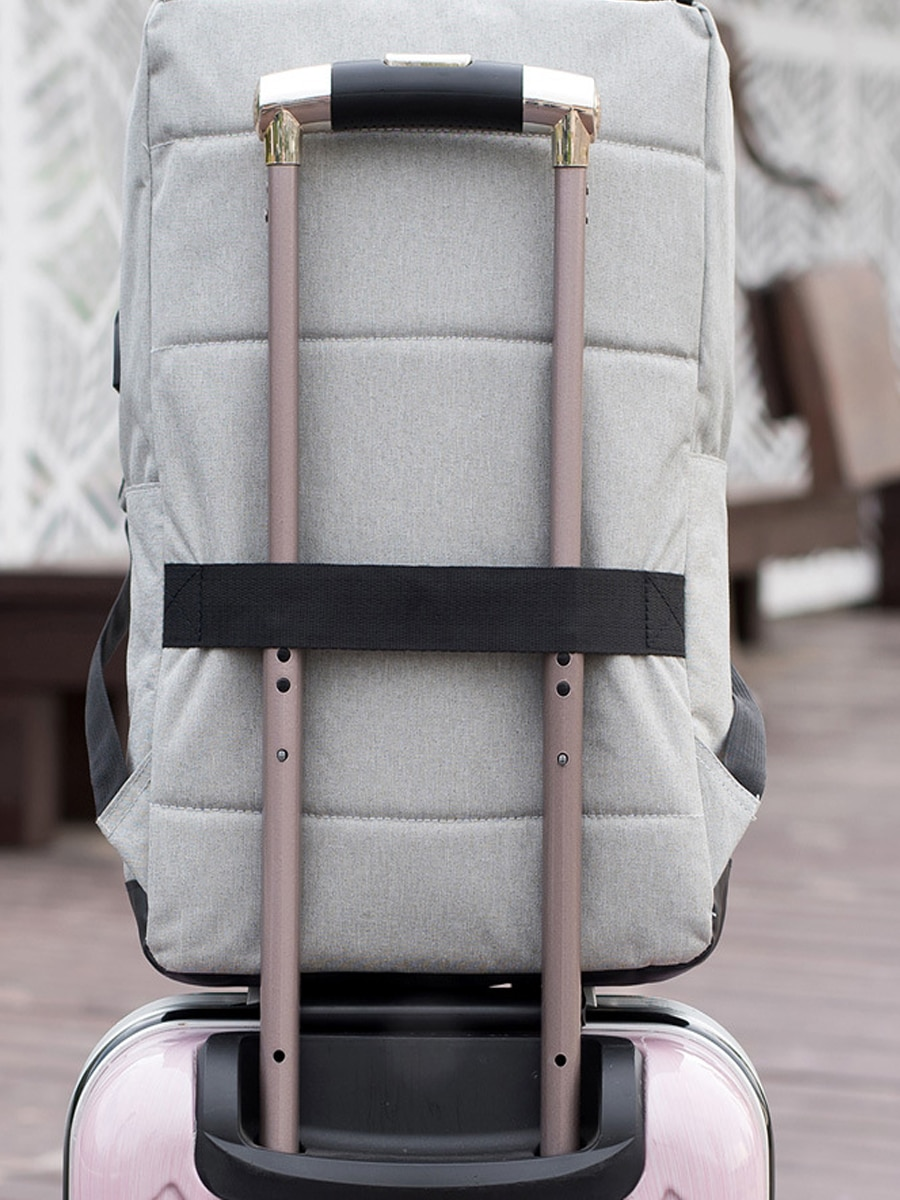Luggage & Bags|Trolly & Travel Bags: (63, 959, 778, 1200)
Men's Backpacks: (81, 3, 770, 988)
